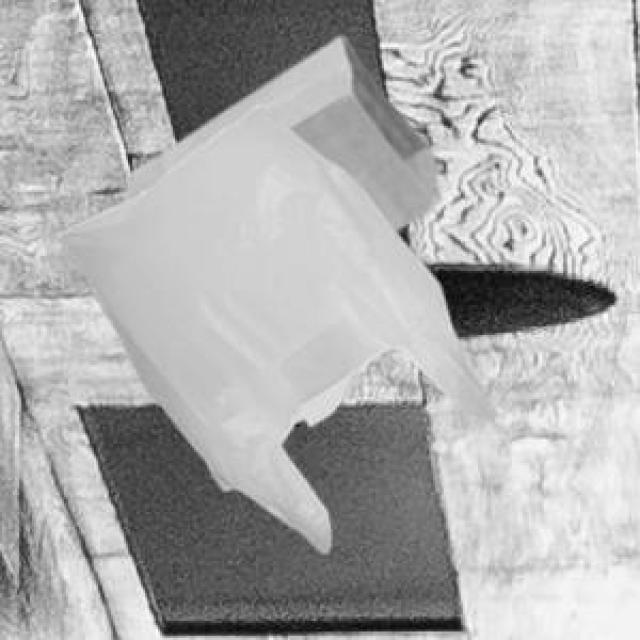paper: (123, 34, 437, 226)
